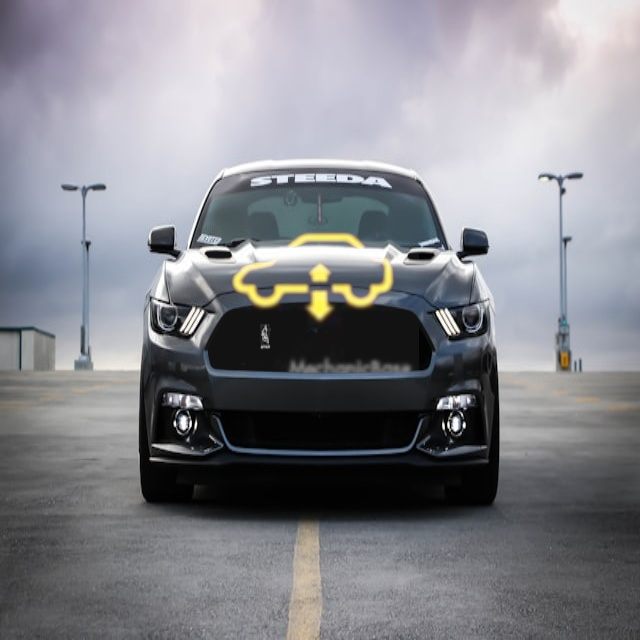symbol: (206, 173, 419, 386)
